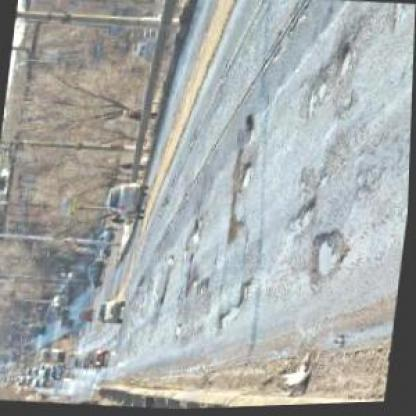pothole: (301, 39, 352, 123), (305, 229, 352, 291), (216, 275, 255, 334), (293, 195, 320, 233), (227, 148, 244, 201), (184, 214, 206, 249), (224, 216, 247, 247), (235, 161, 254, 195), (183, 269, 202, 298), (241, 114, 257, 136), (172, 322, 184, 340), (165, 254, 178, 268)
